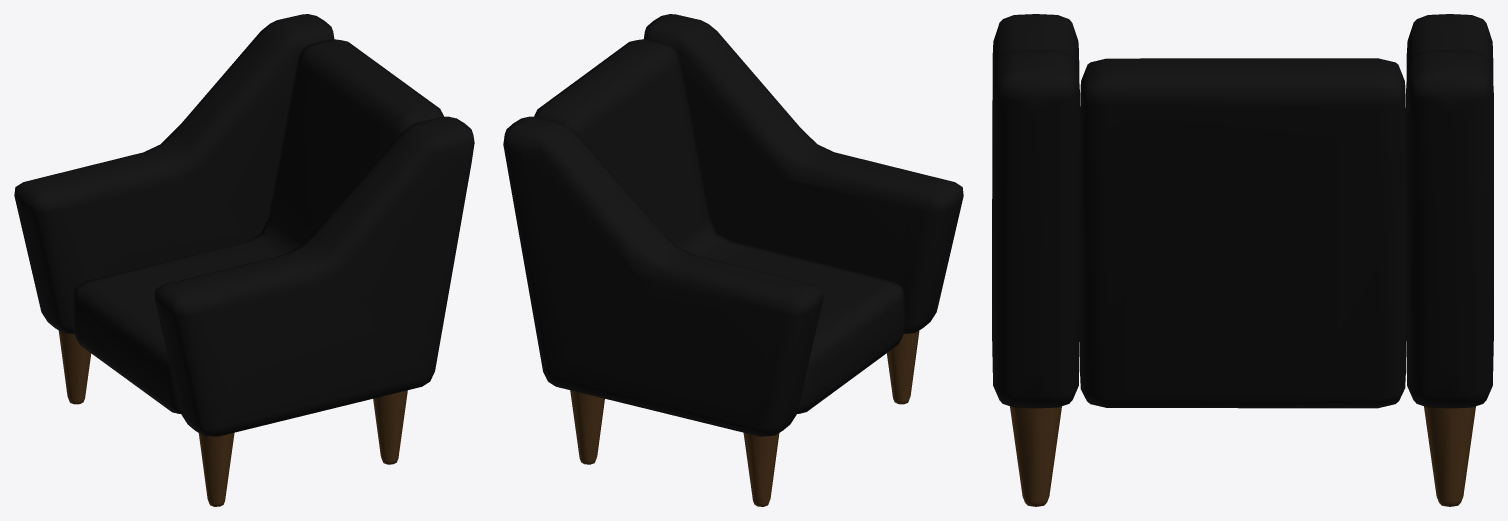
File: armchair_01_leather_black.fbx
3 renders of one model, left to right at view 1: azimuth 30°, elevation 25°; view 2: azimuth 150°, elevation 25°; view 3: azimuth 270°, elevation 25°, orthographic. The views are drawn at different scales.
Parts seen in each view (by area): view 1: armchair_01_leather_black; view 2: armchair_01_leather_black; view 3: armchair_01_leather_black.
Boxes of the visible parts, x1,y1,x2,y2 form: armchair_01_leather_black: [14, 14, 474, 506]; armchair_01_leather_black: [503, 14, 963, 506]; armchair_01_leather_black: [992, 14, 1493, 506].
Size of the model in its own units: 101 by 104 by 98.01.
Materials: 1 (1 with a texture image).
